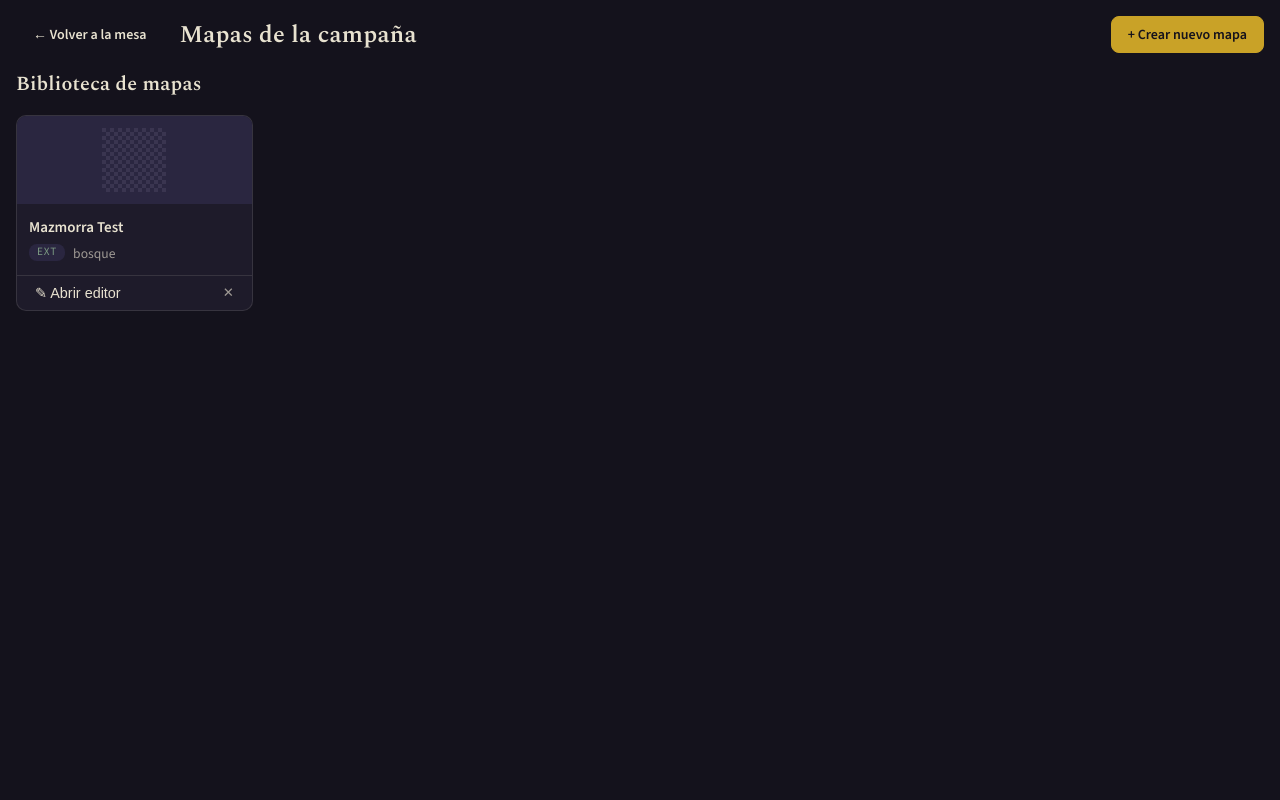
Test: MapasScreen › al hacer click en una tarjeta de mapa abre el editor
This screenshot has width=1280, height=800.
Click the button "✎ Abrir editor".
click(78, 293)  # box [29,284,127,302]
(page scrolled)
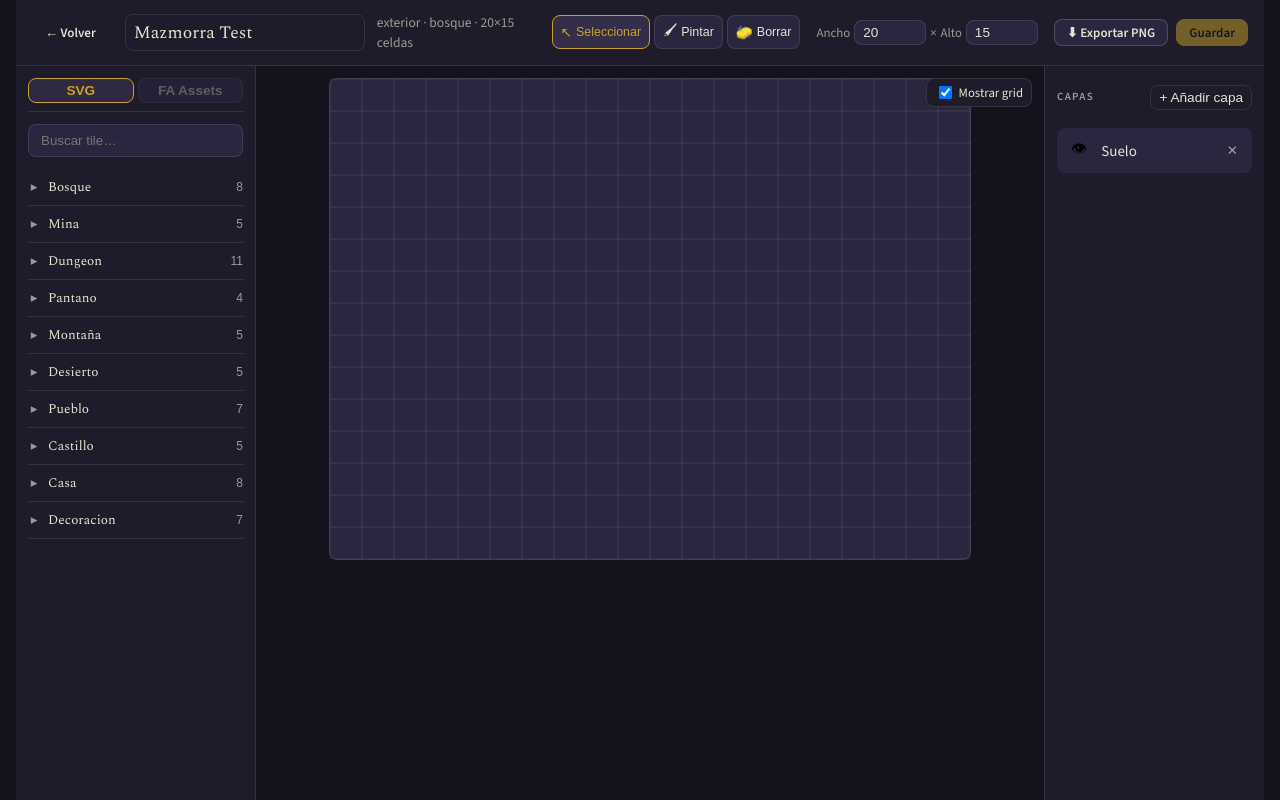
Now the element with test id "map-editor" is shown
